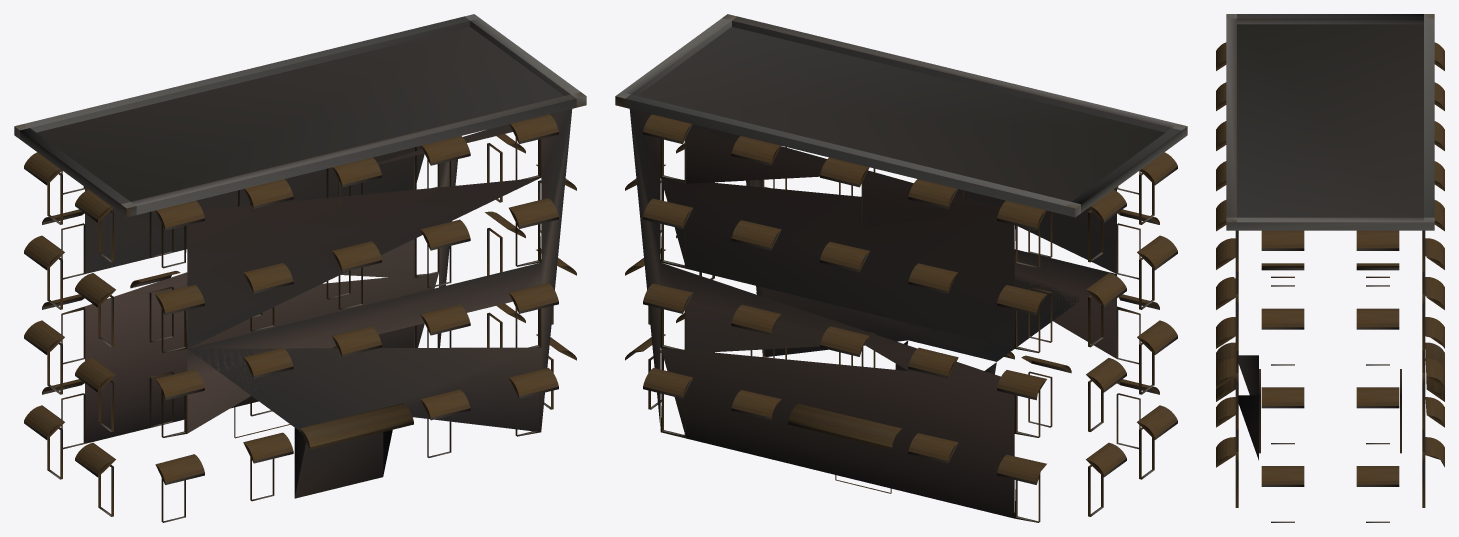
File: sf_apartment_3_lod.glb
3 renders of one model, left to right at view 1: azimuth 30°, elevation 25°; view 2: azimuth 150°, elevation 25°; view 3: azimuth 270°, elevation 25°, orthographic. The views are drawn at different scales.
Visible parts, largest first — view 1: Material2; view 2: Material2; view 3: Material2.
Boxes of the visible parts, box(x1,y1,x2,y2) form: Material2: box(14, 14, 586, 522); Material2: box(615, 14, 1187, 522); Material2: box(1216, 14, 1444, 522).
Bounding box in the file's own units: 25.89 × 18 × 11.55.
